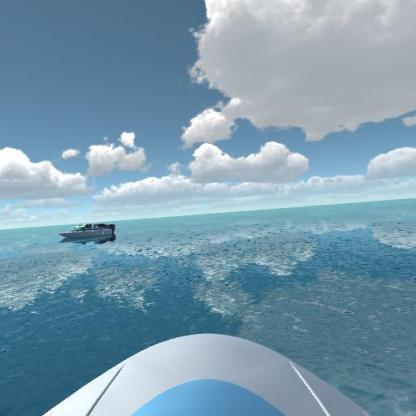usv0: (69, 218, 93, 232)
usv1: (56, 222, 119, 248)
